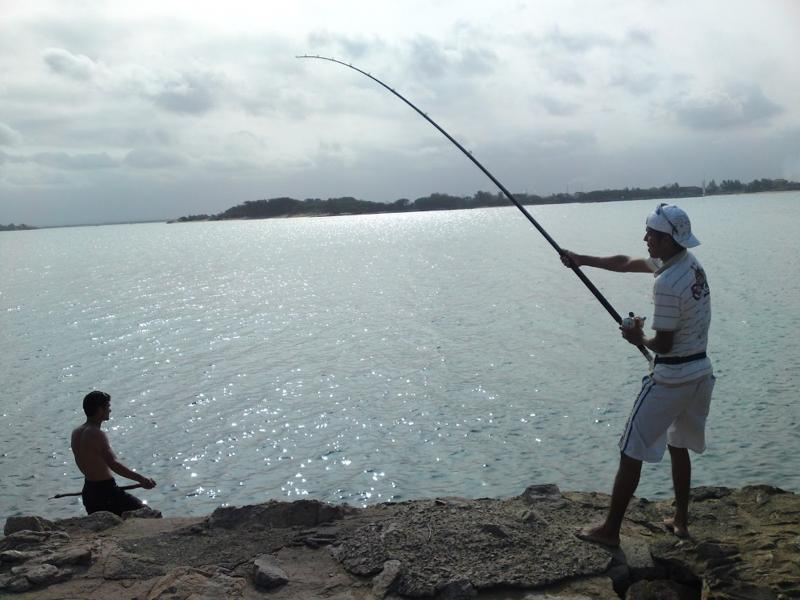person: (558, 205, 715, 547)
